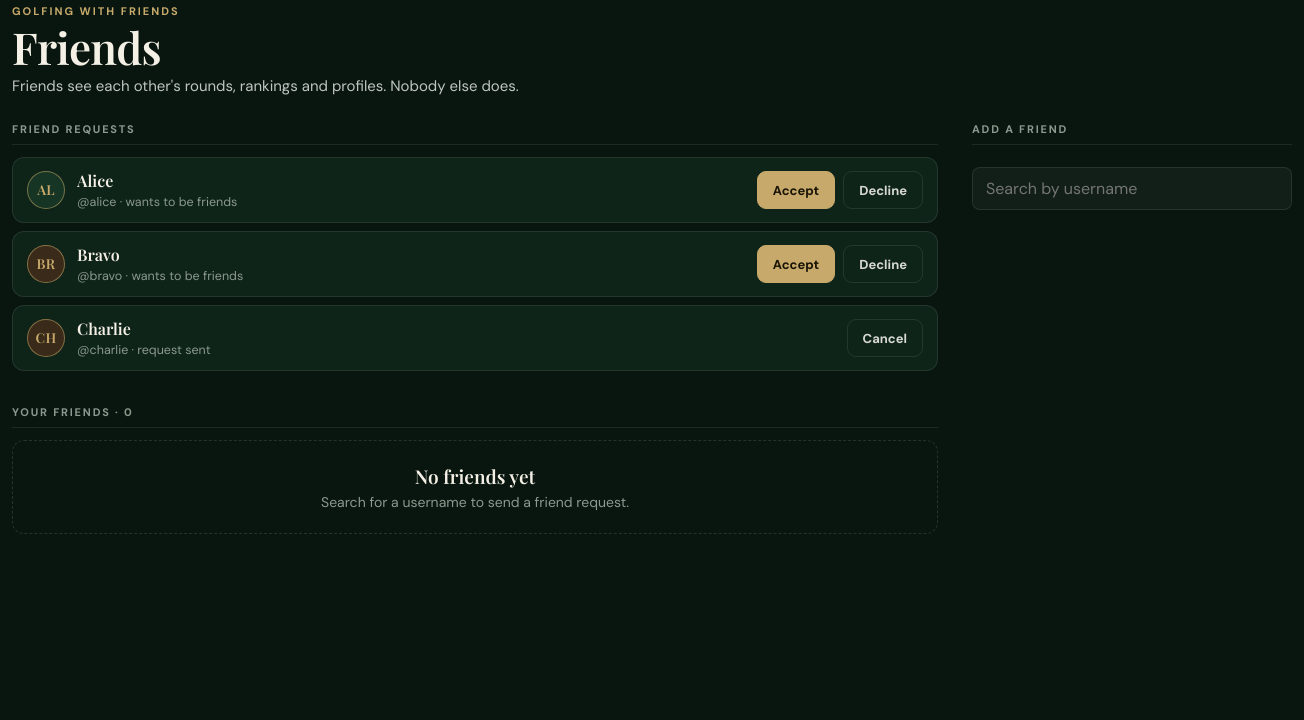
Scenario: friend action serialization › keeps other member actions disabled until a request settles (failure=true)
The image size is (1304, 720).
Type "delta" into the search field labelled "Add a friend" at (1132, 189), box [972, 167, 1292, 210]
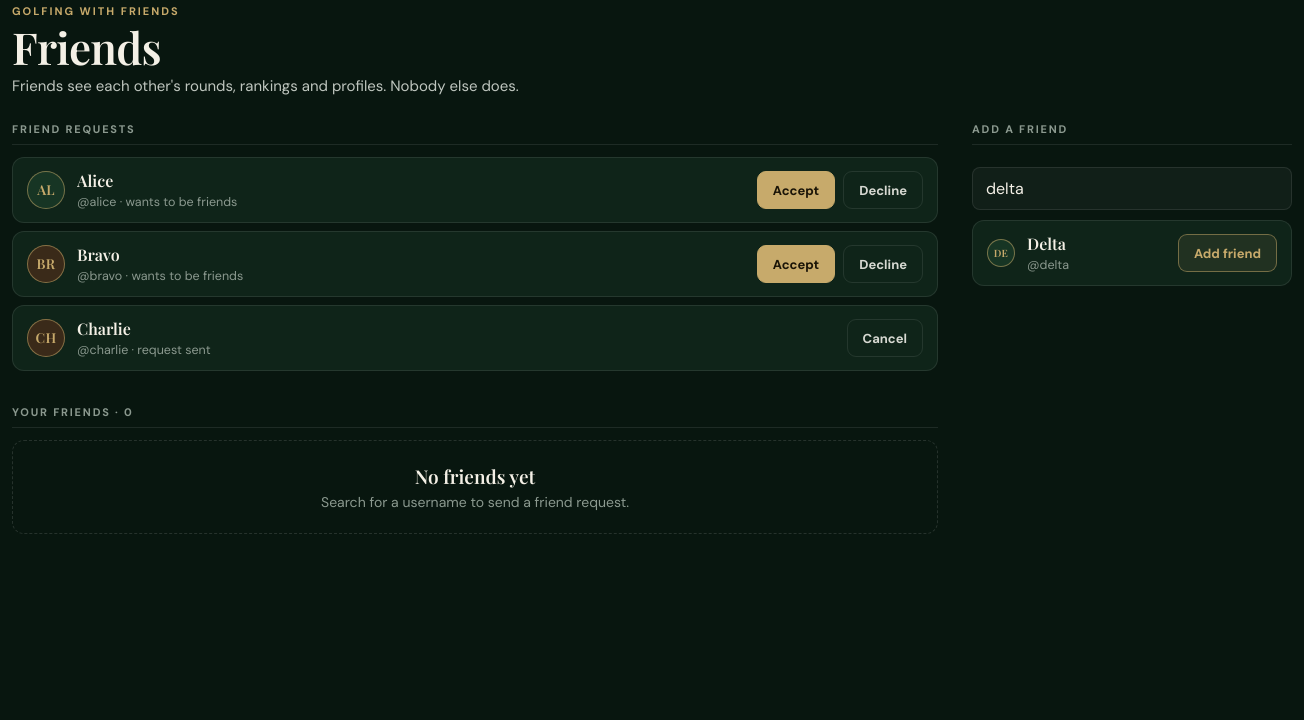
Expected: the button "Add friend" is shown, [1178, 234, 1277, 272]
Click the 1st button "Accept" at (796, 190), box [757, 171, 835, 209]
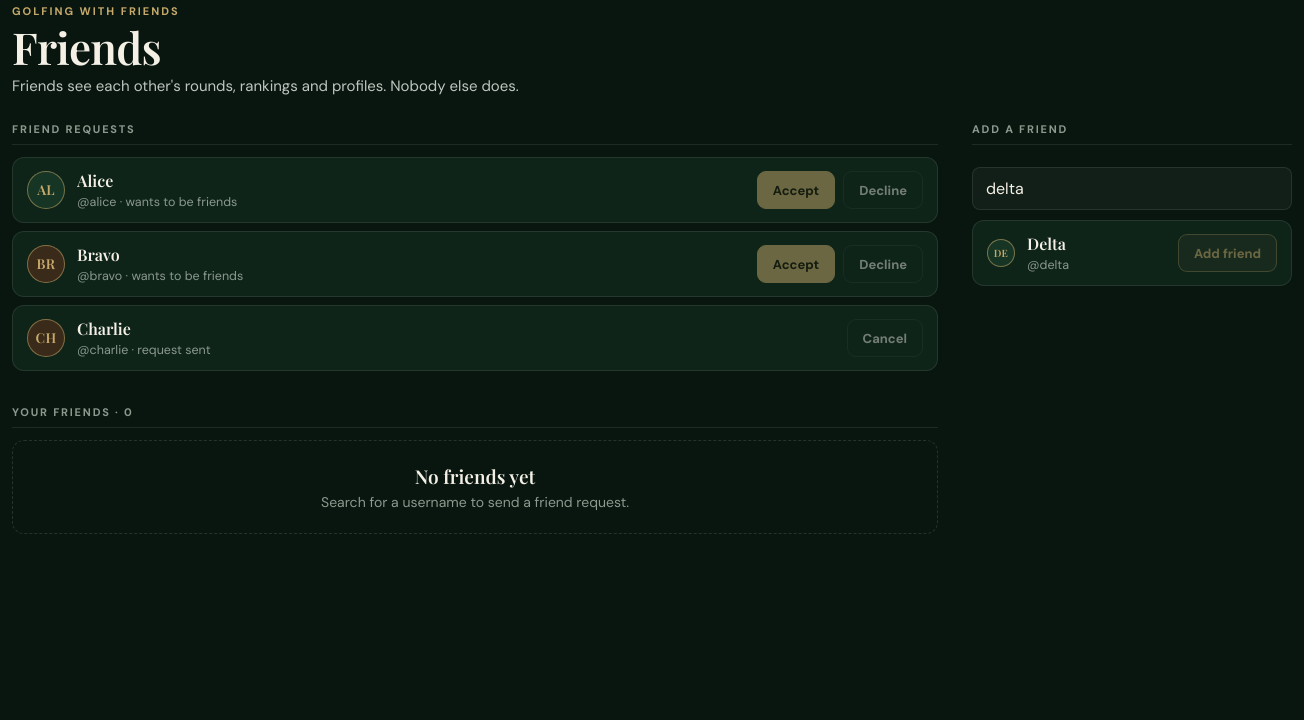
Expected: the 2nd button "Accept" is disabled
Expected: the 2nd button "Decline" is disabled, [843, 245, 923, 283]
Expected: the button "Cancel" is disabled, [847, 319, 923, 357]
Click the 2nd button "Accept" at (796, 264), box [757, 245, 835, 283]
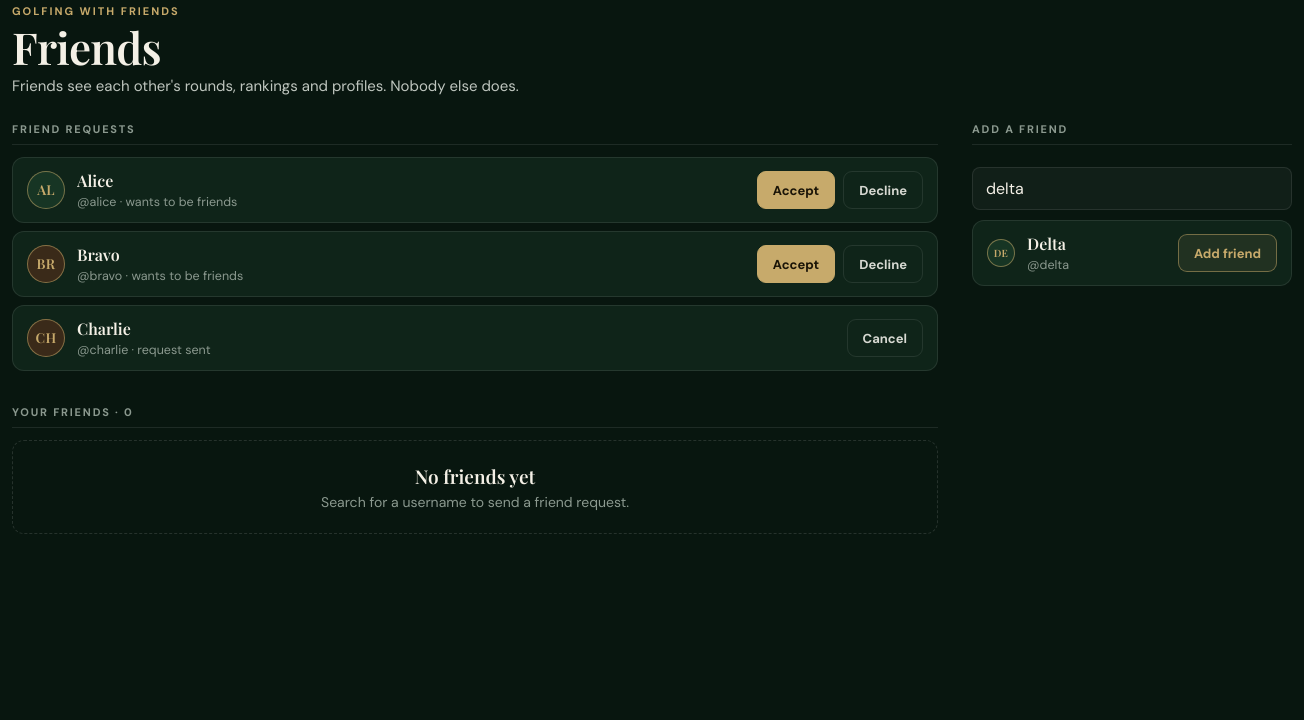
Expected: the 2nd button "Accept" is enabled, [757, 245, 835, 283]
